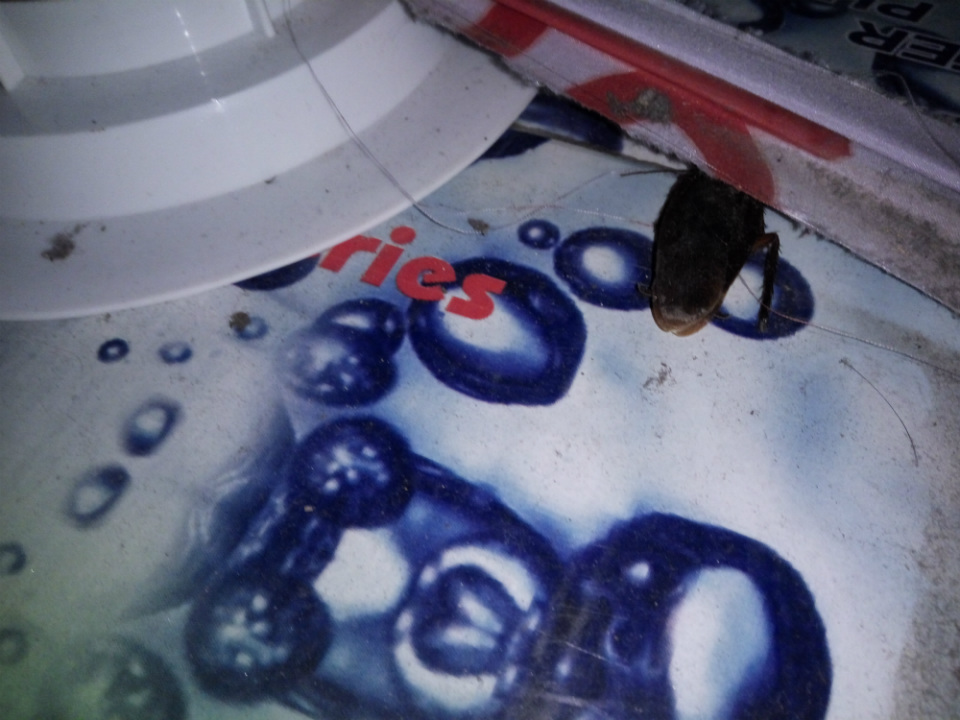cockroach: (545, 144, 843, 354)
